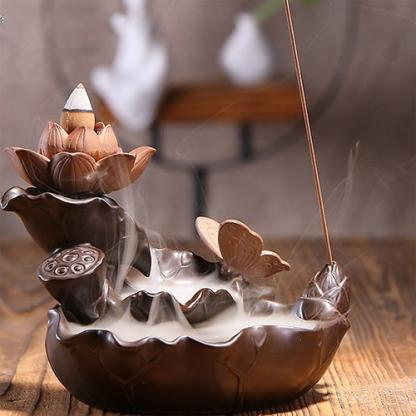smoke: (56, 157, 342, 353)
